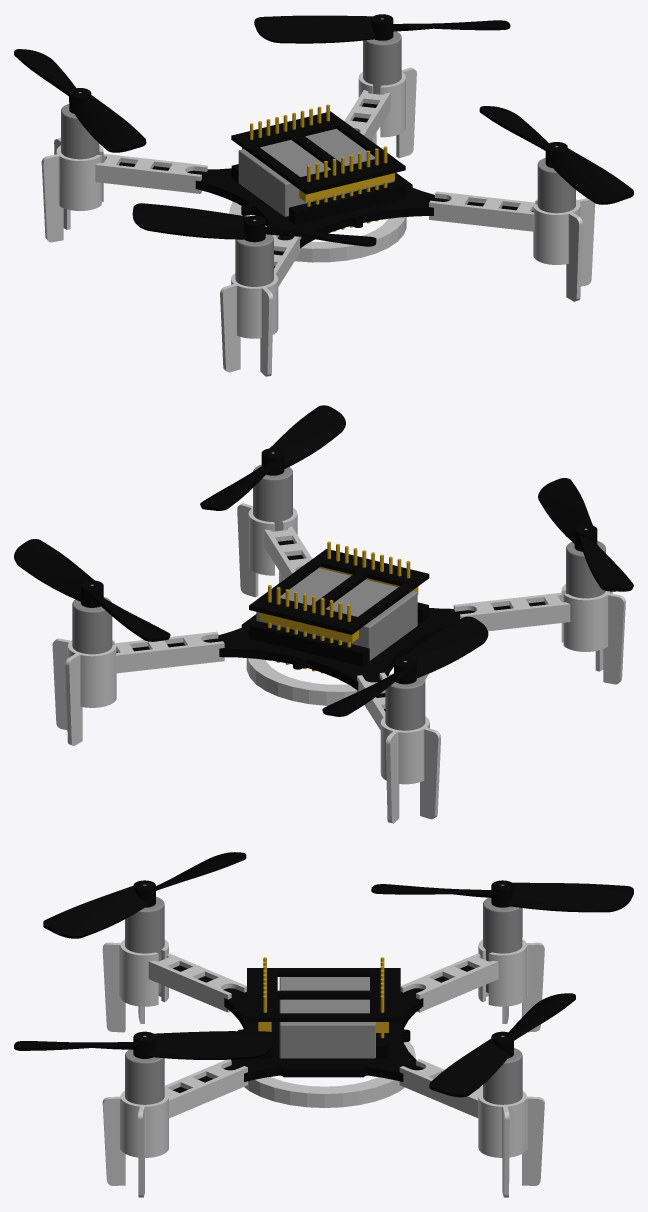
The model's file is crazyflie.obj.
3 renders of one model, top to bottom at view 1: azimuth 30°, elevation 25°; view 2: azimuth 150°, elevation 25°; view 3: azimuth 270°, elevation 25°, orthographic. The views are drawn at different scales.
Parts seen in each view (by area): view 1: motor_mounts_crazyflie.001, propellers_crazyflie.002, frame_crazyflie, motors_crazyflie.003, battery_holder_crazyflie.005, battery_crazyflie.004, pins_crazyflie.006, led_ring_Cylinder; view 2: motor_mounts_crazyflie.001, propellers_crazyflie.002, frame_crazyflie, motors_crazyflie.003, battery_holder_crazyflie.005, battery_crazyflie.004, pins_crazyflie.006, led_ring_Cylinder; view 3: motor_mounts_crazyflie.001, propellers_crazyflie.002, motors_crazyflie.003, frame_crazyflie, battery_crazyflie.004, battery_holder_crazyflie.005, led_ring_Cylinder, pins_crazyflie.006.
Boxes of the visible parts, bbox=[...] form: motor_mounts_crazyflie.001: bbox=[41, 67, 595, 376]; propellers_crazyflie.002: bbox=[14, 14, 633, 246]; frame_crazyflie: bbox=[119, 103, 533, 267]; motors_crazyflie.003: bbox=[61, 18, 575, 286]; battery_holder_crazyflie.005: bbox=[231, 111, 405, 194]; battery_crazyflie.004: bbox=[238, 124, 394, 216]; pins_crazyflie.006: bbox=[242, 104, 394, 231]; led_ring_Cylinder: bbox=[229, 201, 406, 262]; motor_mounts_crazyflie.001: bbox=[52, 503, 625, 823]; propellers_crazyflie.002: bbox=[14, 405, 633, 716]; frame_crazyflie: bbox=[116, 540, 545, 711]; motors_crazyflie.003: bbox=[72, 452, 605, 730]; battery_holder_crazyflie.005: bbox=[249, 549, 429, 634]; battery_crazyflie.004: bbox=[256, 565, 417, 660]; pins_crazyflie.006: bbox=[260, 541, 418, 673]; led_ring_Cylinder: bbox=[246, 658, 428, 705]; motor_mounts_crazyflie.001: bbox=[102, 939, 544, 1197]; propellers_crazyflie.002: bbox=[14, 852, 633, 1097]; motors_crazyflie.003: bbox=[125, 884, 522, 1104]; frame_crazyflie: bbox=[172, 965, 474, 1092]; battery_crazyflie.004: bbox=[279, 977, 375, 1058]; battery_holder_crazyflie.005: bbox=[247, 968, 400, 1021]; led_ring_Cylinder: bbox=[244, 1041, 415, 1107]; pins_crazyflie.006: bbox=[258, 957, 388, 1038].
Size of the model in its own units: 0.1029 by 0.0293 by 0.1119.
